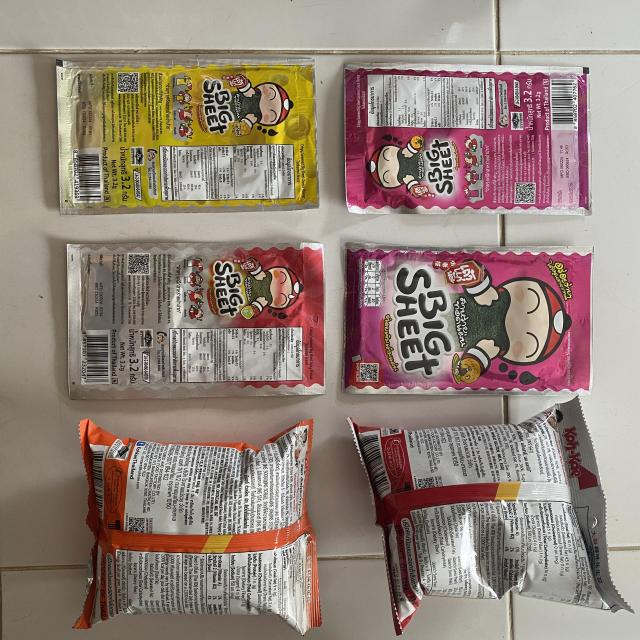plastik: (348, 399, 631, 634), (75, 419, 321, 634), (56, 59, 319, 214), (66, 242, 325, 399), (342, 242, 592, 395), (345, 62, 591, 215)
